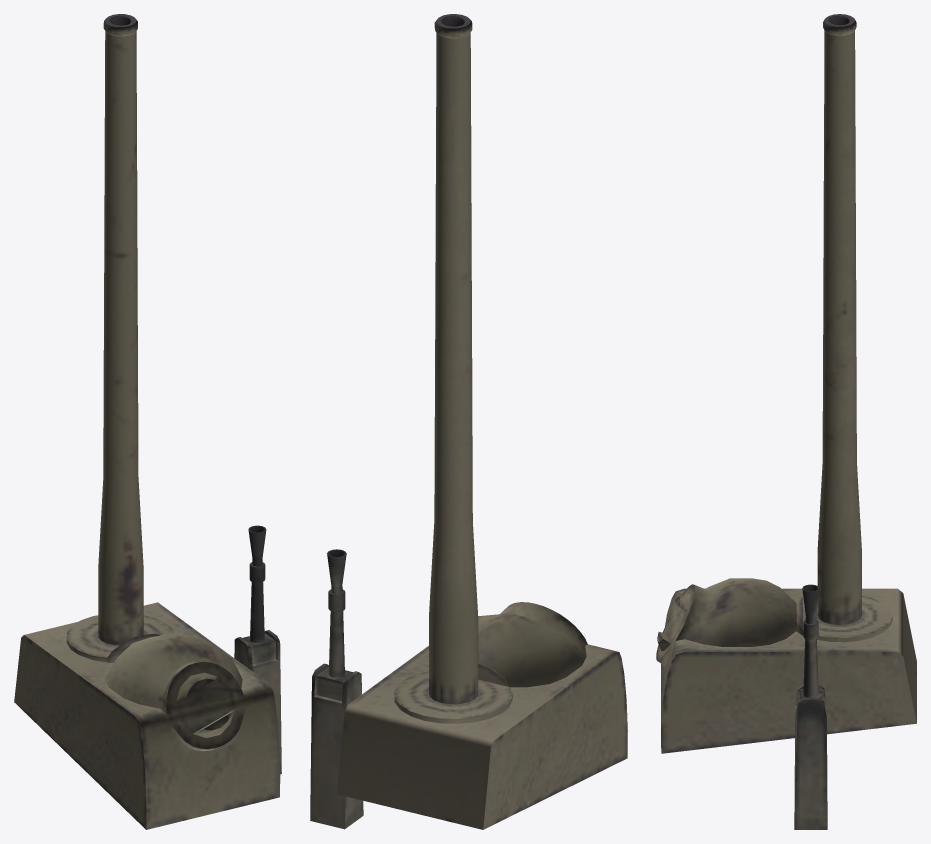
The model's file is Gun_02.glb.
The picture shows the model from 3 angles, left to right: view 1: azimuth 30°, elevation 25°; view 2: azimuth 150°, elevation 25°; view 3: azimuth 270°, elevation 25°; orthographic projection. The views are drawn at different scales.
Visible parts, largest first — view 1: set_0_group_0; view 2: set_0_group_0; view 3: set_0_group_0.
Part boxes in pixels (left/top/right/bottom): set_0_group_0: left=14, top=14, right=281, bottom=829; set_0_group_0: left=310, top=14, right=627, bottom=829; set_0_group_0: left=656, top=14, right=916, bottom=829.
Size of the model in its own units: 0.4517 by 1.62 by 0.5156.
Materials: 1 (1 with a texture image).
